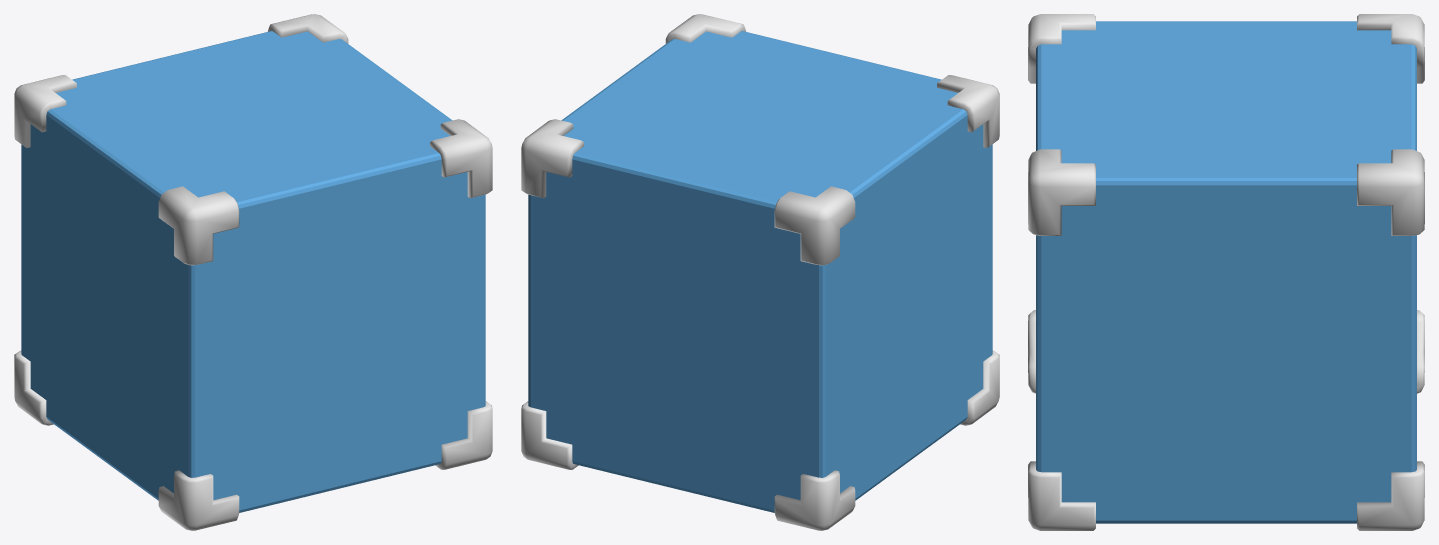
The model's file is int_cube.fbx.
3 views of the same model, side by side, from view 1: azimuth 30°, elevation 25°; view 2: azimuth 150°, elevation 25°; view 3: azimuth 270°, elevation 25° (orthographic). The views are drawn at different scales.
Parts seen in each view (by area): view 1: Cube; view 2: Cube; view 3: Cube.
Boxes of the visible parts, x1,y1,x2,y2 form: Cube: [14, 14, 492, 530]; Cube: [521, 14, 999, 530]; Cube: [1028, 14, 1424, 530].
Size of the model in its own units: 104 by 104 by 104.
